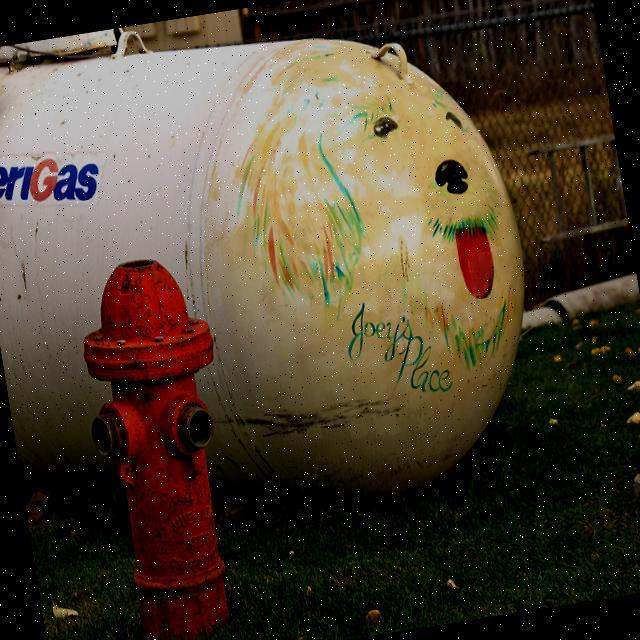fire_hydrant: (66, 254, 258, 640)
